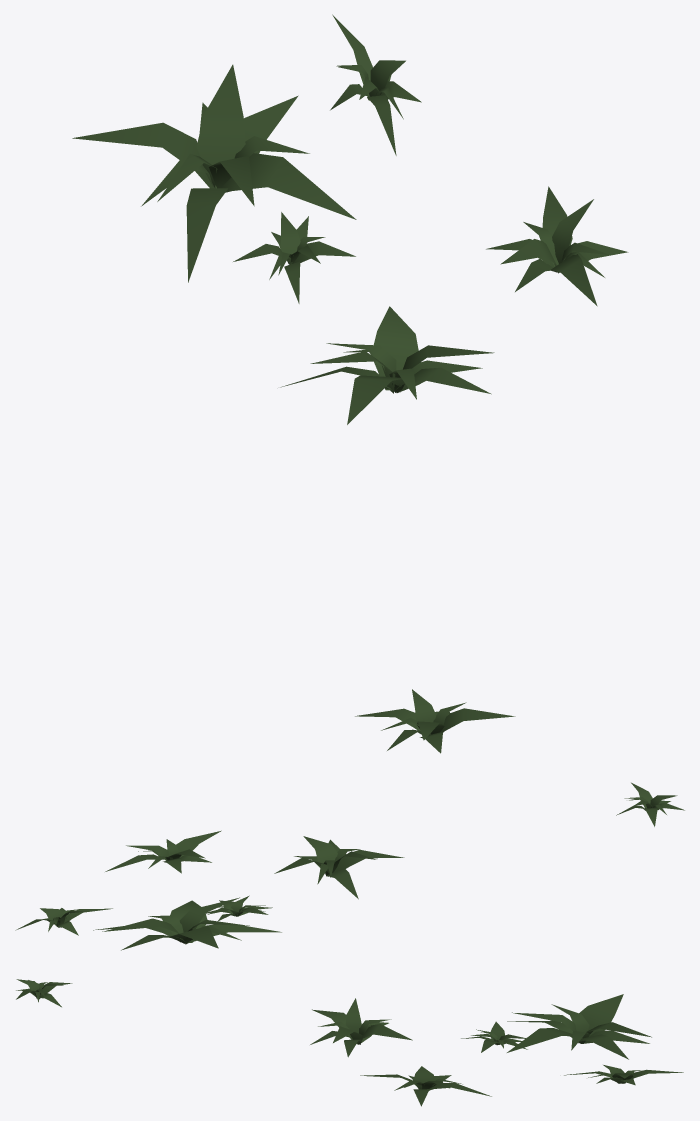
Rendered from little_grass.glb.
The picture shows the model from 3 angles, top to bottom: view 1: azimuth 30°, elevation 25°; view 2: azimuth 150°, elevation 25°; view 3: azimuth 270°, elevation 25°; orthographic projection. The views are drawn at different scales.
Parts seen in each view (by area): view 1: little grass 8; view 2: little grass 8; view 3: little grass 8.
Part boxes in pixels (box(x1,y1,x2,y2)): little grass 8: box(72, 14, 628, 753); little grass 8: box(15, 782, 684, 950); little grass 8: box(16, 979, 683, 1106).
Size of the model in its own units: 4.68 by 0.8766 by 8.56.
